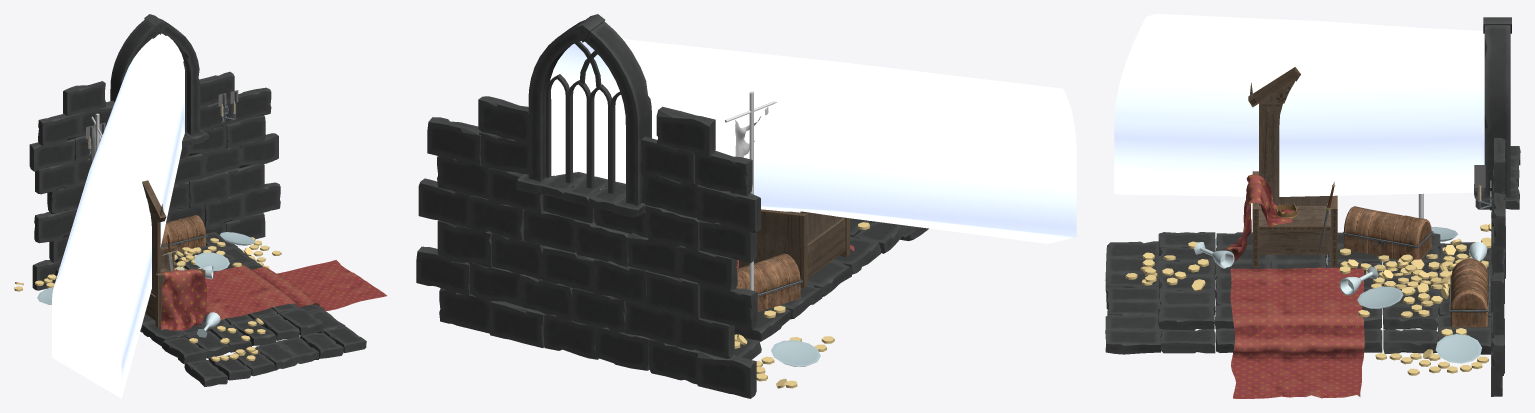
The model's file is ThroneWhole.fbx.
The picture shows the model from 3 angles, left to right: view 1: azimuth 30°, elevation 25°; view 2: azimuth 150°, elevation 25°; view 3: azimuth 270°, elevation 25°; orthographic projection. The views are drawn at different scales.
Parts seen in each view (by area): view 1: Throne_8; view 2: Throne_8; view 3: Throne_8.
Part boxes in pixels (x1=…): Throne_8: x1=14, y1=14, x2=386, y2=398; Throne_8: x1=416, y1=14, x2=1076, y2=398; Throne_8: x1=1105, y1=14, x2=1520, y2=398.
Size of the model in its own units: 428 by 280 by 336.
